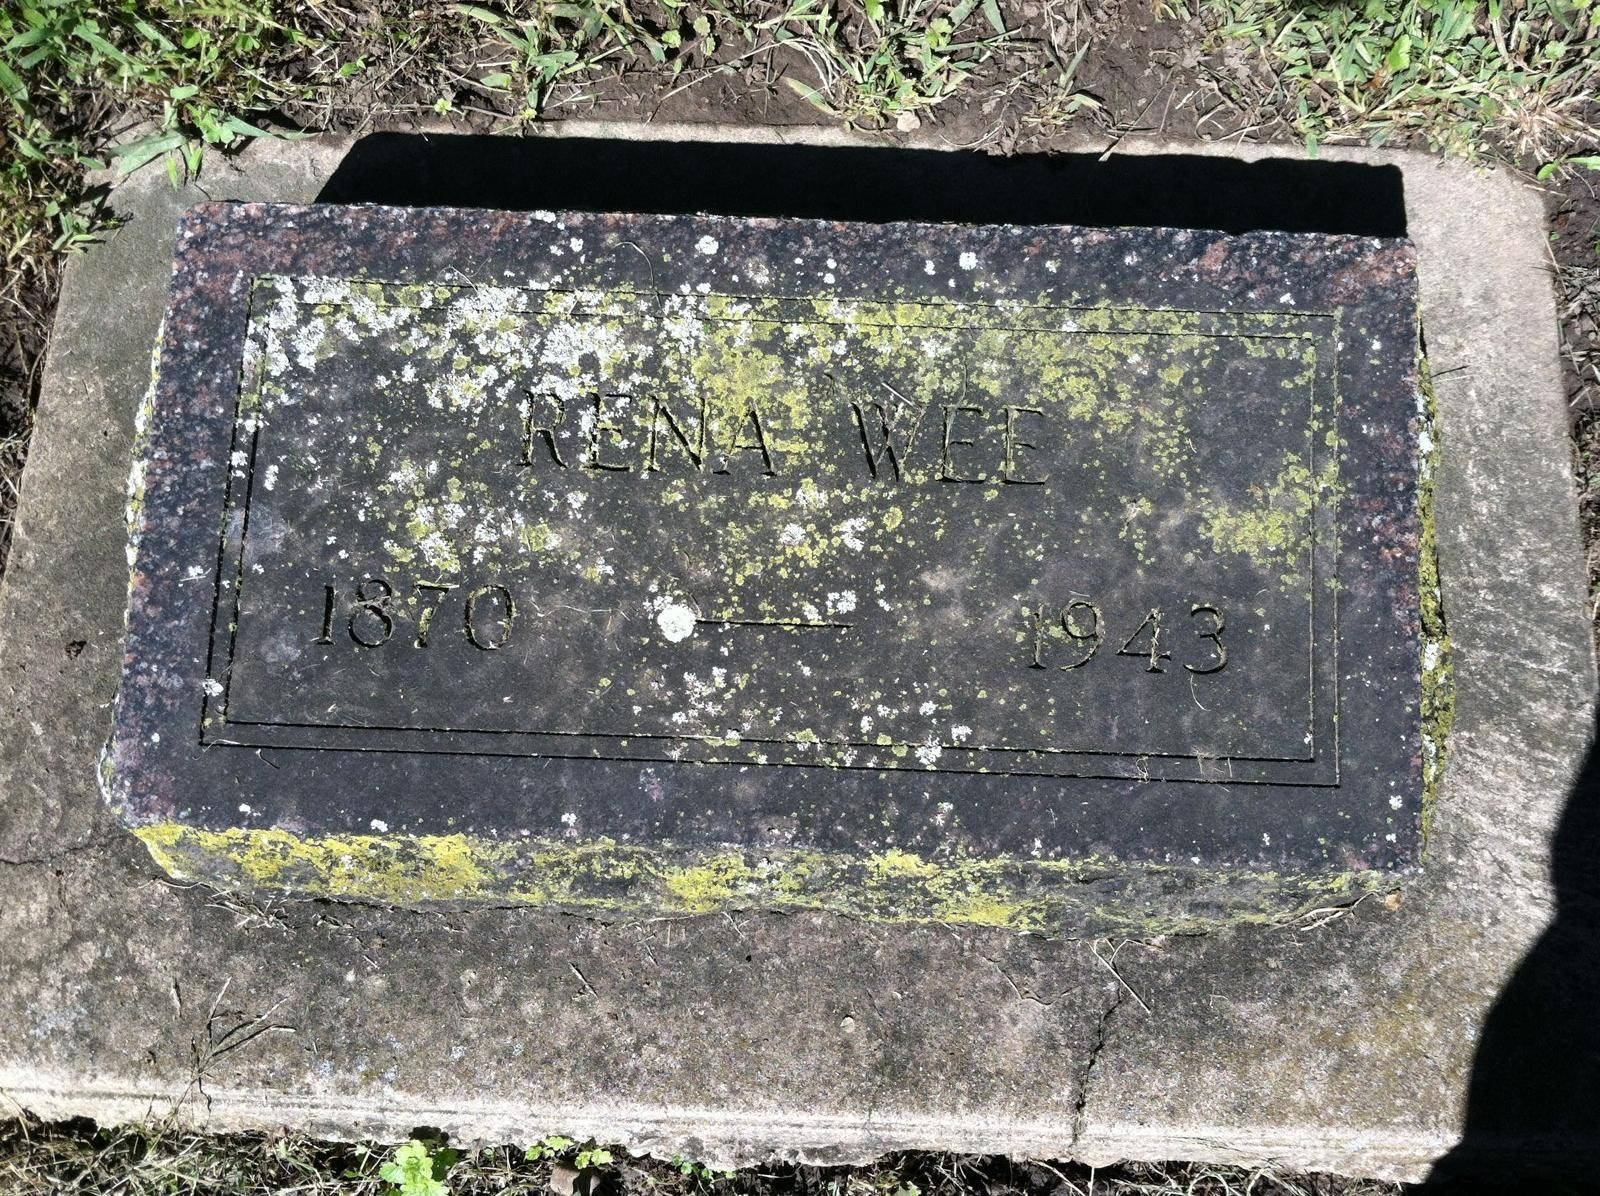flat: (100, 191, 1444, 915)
